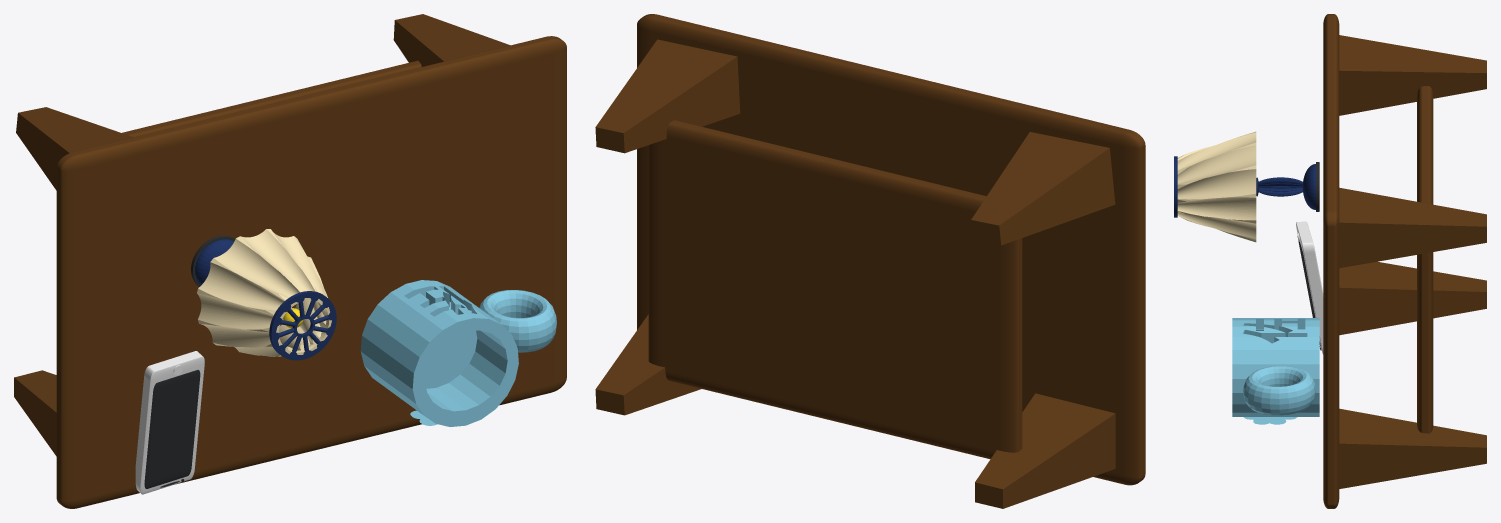
Rendered from tinker.obj.
3 renders of one model, left to right at view 1: azimuth 30°, elevation 25°; view 2: azimuth 150°, elevation 25°; view 3: azimuth 270°, elevation 25°, orthographic. The views are drawn at different scales.
Visible parts, largest first — view 1: group_0_6306067, group_0_8768998, group_0_16311991, group_0_2829873, group_0_1650274, group_0_16448250; view 2: group_0_6306067; view 3: group_0_6306067, group_0_8768998, group_0_16311991, group_0_1650274, group_0_16448250, group_0_2829873.
Part boxes in pixels (x1,y1,x2,y2): group_0_6306067: [14, 14, 566, 508]; group_0_8768998: [360, 280, 556, 426]; group_0_16311991: [197, 229, 331, 356]; group_0_2829873: [144, 235, 235, 488]; group_0_1650274: [195, 239, 336, 360]; group_0_16448250: [135, 351, 204, 494]; group_0_6306067: [595, 14, 1145, 508]; group_0_6306067: [1323, 14, 1486, 508]; group_0_8768998: [1232, 318, 1319, 424]; group_0_16311991: [1177, 131, 1256, 242]; group_0_1650274: [1174, 156, 1315, 217]; group_0_16448250: [1296, 221, 1323, 354]; group_0_2829873: [1297, 162, 1321, 350].
Bounding box in the file's own units: 135 × 90 × 86.01.
